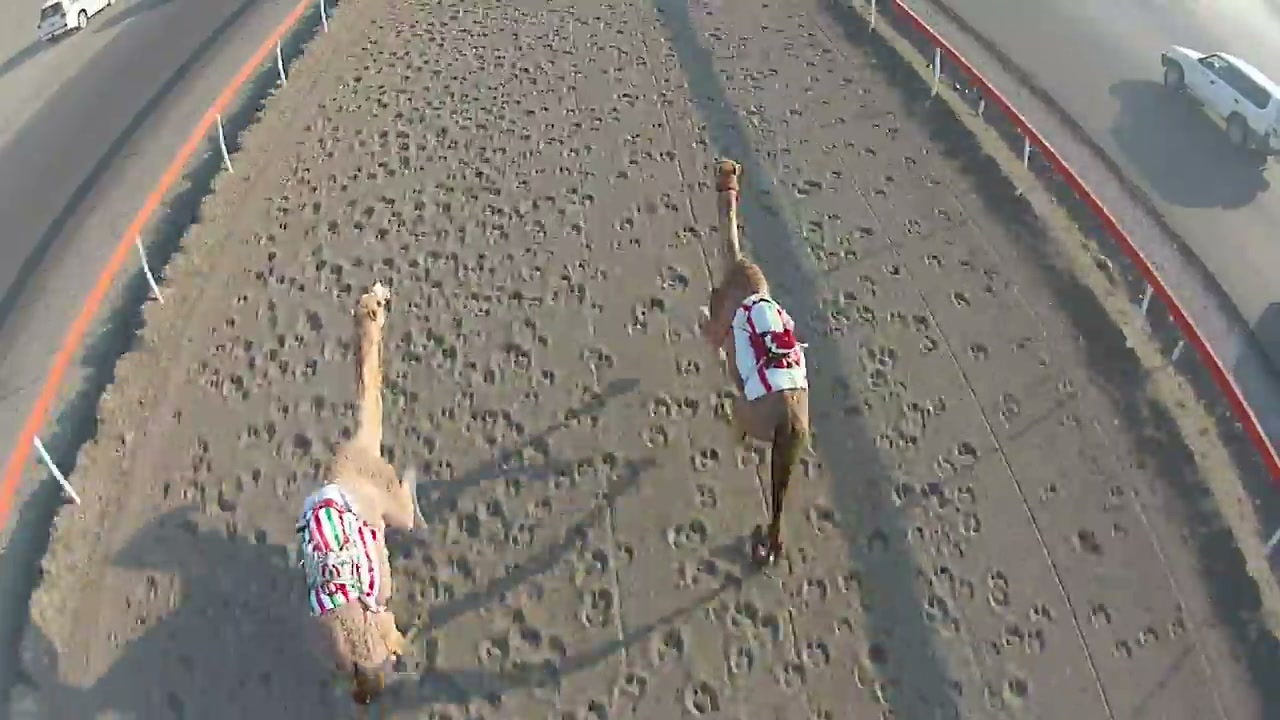animal_foot_print: (22, 0, 1254, 719)
